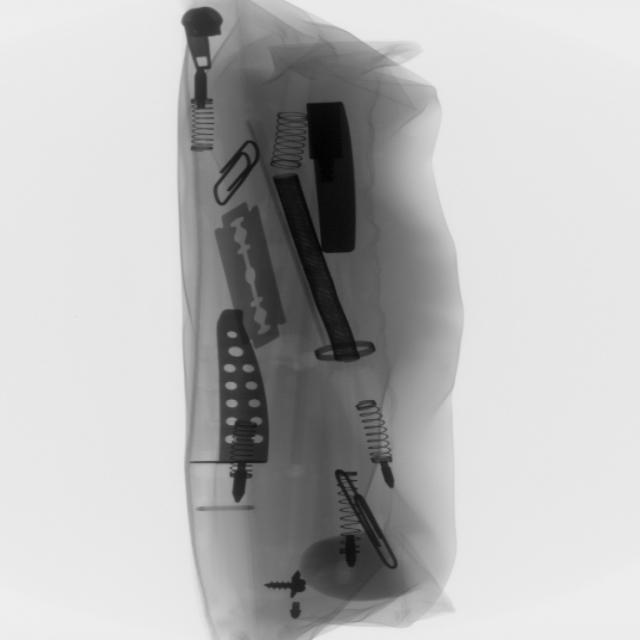BLADE: (213, 194, 291, 355)
